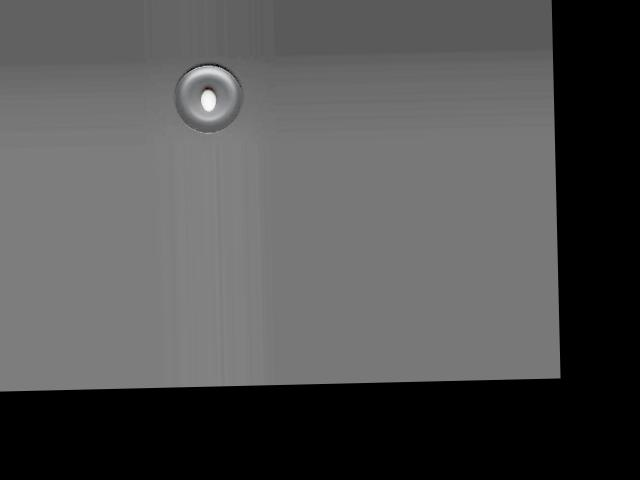egg: (200, 89, 216, 110)
